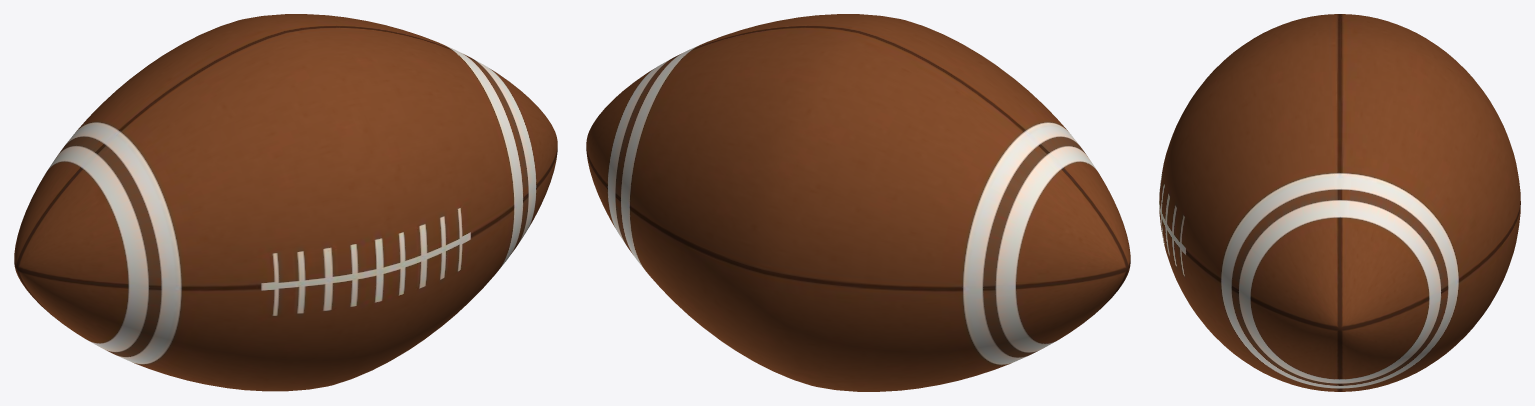
The model's file is ball-american-football.glb.
The picture shows the model from 3 angles, left to right: view 1: azimuth 30°, elevation 25°; view 2: azimuth 150°, elevation 25°; view 3: azimuth 270°, elevation 25°; orthographic projection. The views are drawn at different scales.
Visible parts, largest first — view 1: Ball; view 2: Ball; view 3: Ball.
Boxes of the visible parts, x1,y1,x2,y2 form: Ball: (14, 14, 557, 391); Ball: (586, 14, 1130, 391); Ball: (1159, 14, 1520, 391).
Bounding box in the file's own units: 0.28 × 0.17 × 0.17.
2 materials, 2 textured.
